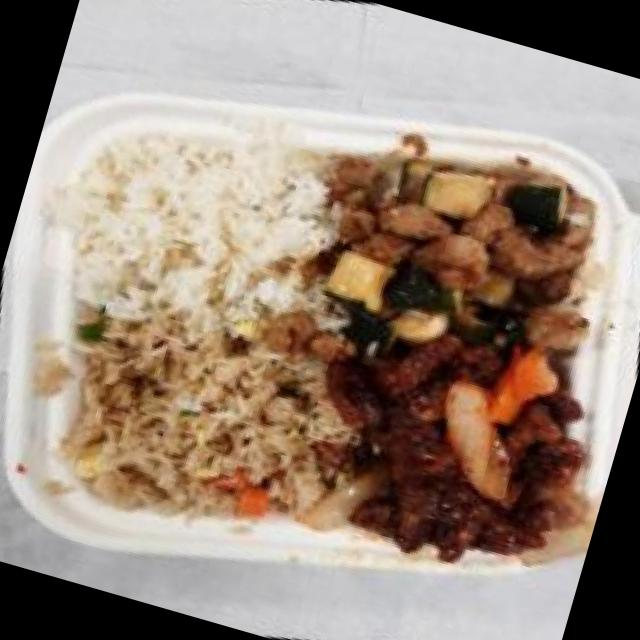Beijing Beef: (260, 269, 640, 624)
Fried Rice: (24, 260, 381, 581)
Kung Pao Chicken: (282, 99, 638, 408)
White Steamed Rice: (16, 67, 364, 374)
